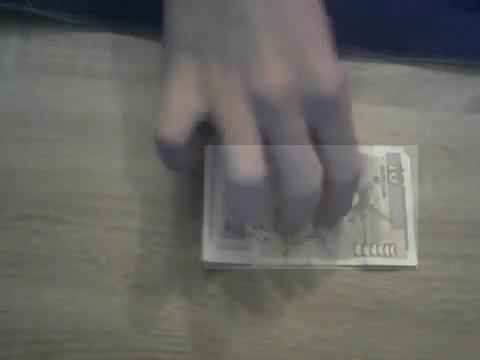10leva: (204, 145, 418, 269)
